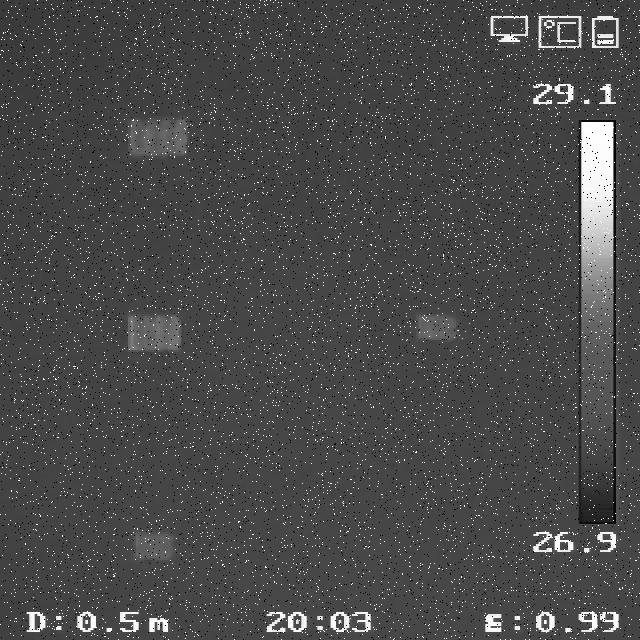Indistinguishable 4-bar target: (132, 531, 173, 561), (414, 314, 454, 342)
threshold 4-bar target: (126, 115, 190, 157), (125, 313, 184, 354)
